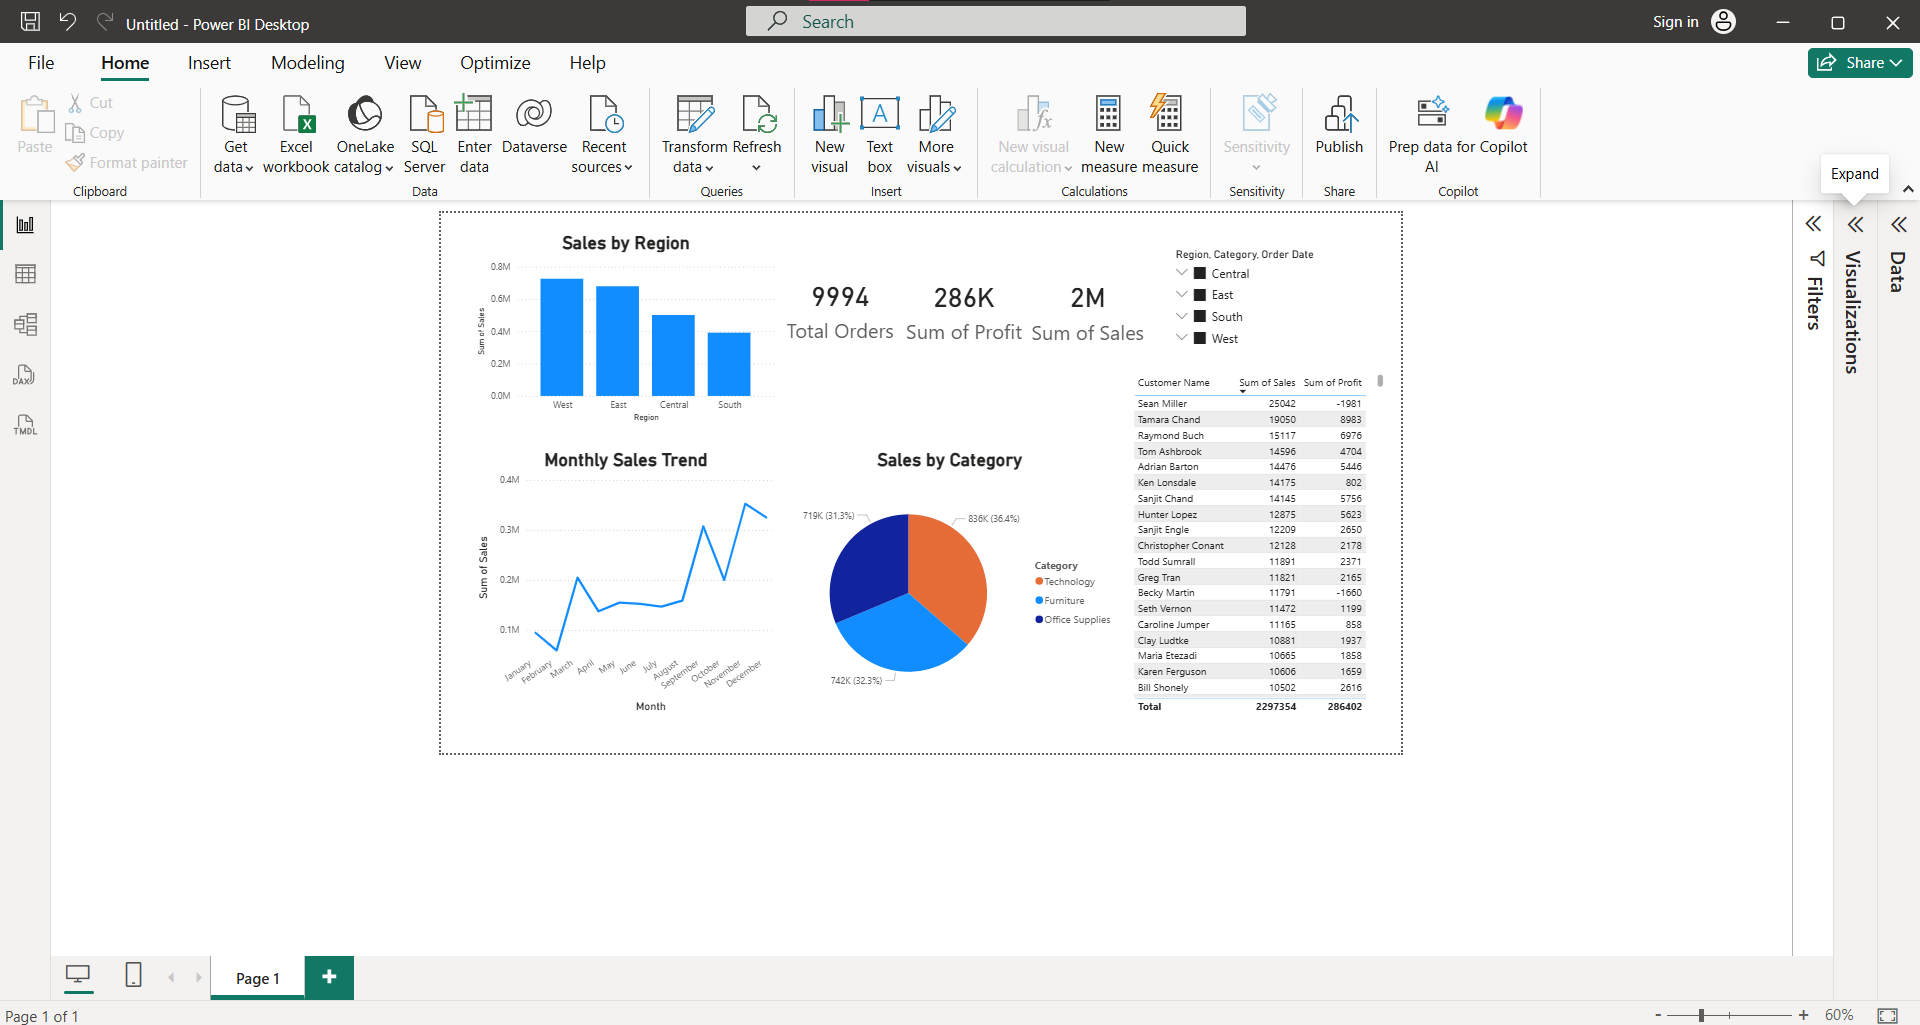

This screenshot's page, from the dashboard's own definition file:
{"tool":"powerbi","page":{"name":"Page 1","canvas":[1280,720],"ordinal":0},"visuals":[{"type":"card","fields":{"Values":["Sum(Superstore Data.Sales)"]},"box":[780,45,165,165],"z":0},{"type":"card","fields":{"Values":["Sum(Superstore Data.Profit)"]},"box":[615,43.3,165,166.7],"z":1000},{"type":"card","fields":{"Values":["Dashboard.Total Orders"]},"box":[450,41.7,165,168.3],"z":2000},{"type":"columnChart","title":"Sales by Region","fields":{"Category":["Superstore Data.Region"],"Y":["Sum(Superstore Data.Sales)"]},"box":[43.3,25,406.7,258.3],"z":3000},{"type":"lineChart","title":"Monthly Sales Trend","fields":{"Category":["Superstore Data.Order Date.Variation.Date Hierarchy.Year","Superstore Data.Order Date.Variation.Date Hierarchy.Quarter","Superstore Data.Order Date.Variation.Date Hierarchy.Month","Superstore Data.Order Date.Variation.Date Hierarchy.Day"],"Y":["Sum(Superstore Data.Sales)"]},"box":[43.3,315,406.7,356.7],"z":4000},{"type":"pieChart","title":"Sales by Category","fields":{"Category":["Superstore Data.Category"],"Y":["Sum(Superstore Data.Sales)"]},"box":[450,315,456.7,356.7],"z":5000},{"type":"tableEx","fields":{"Values":["Superstore Data.Customer Name","Sum(Superstore Data.Sales)","Sum(Superstore Data.Profit)"]},"box":[918.3,210,343.3,461.7],"z":6000},{"type":"slicer","fields":{"Values":["Superstore Data.Region","Superstore Data.Category","Superstore Data.Order Date"]},"box":[966.7,41.7,283.3,148.3],"z":7000}]}

Visuals, with their boxes on the page's 1280x720 design canvas (x1, y1, x2, y2). These are canvas units, not pixel positions in the 1920x1025 screenshot, which may show the page scaled, cropped or inside an application window:
card - Sum(Superstore Data.Sales): x1=780 y1=45 x2=945 y2=210
card - Sum(Superstore Data.Profit): x1=615 y1=43 x2=780 y2=210
card - Dashboard.Total Orders: x1=450 y1=42 x2=615 y2=210
"Sales by Region" columnChart: x1=43 y1=25 x2=450 y2=283
"Monthly Sales Trend" lineChart: x1=43 y1=315 x2=450 y2=672
"Sales by Category" pieChart: x1=450 y1=315 x2=907 y2=672
tableEx - Superstore Data.Customer Name x Sum(Superstore Data.Sales): x1=918 y1=210 x2=1262 y2=672
slicer - Superstore Data.Region x Superstore Data.Category: x1=967 y1=42 x2=1250 y2=190
